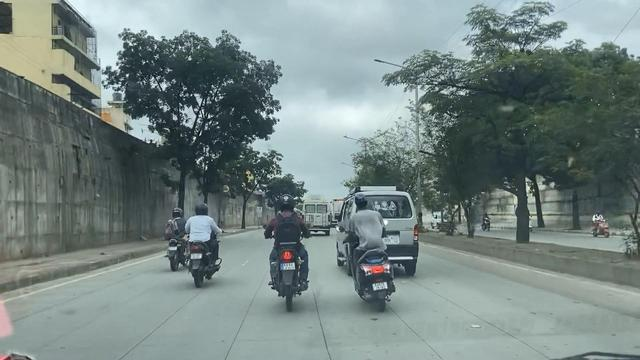LMV: (329, 196, 406, 304), (257, 191, 317, 307), (177, 204, 225, 273), (163, 207, 184, 270)
